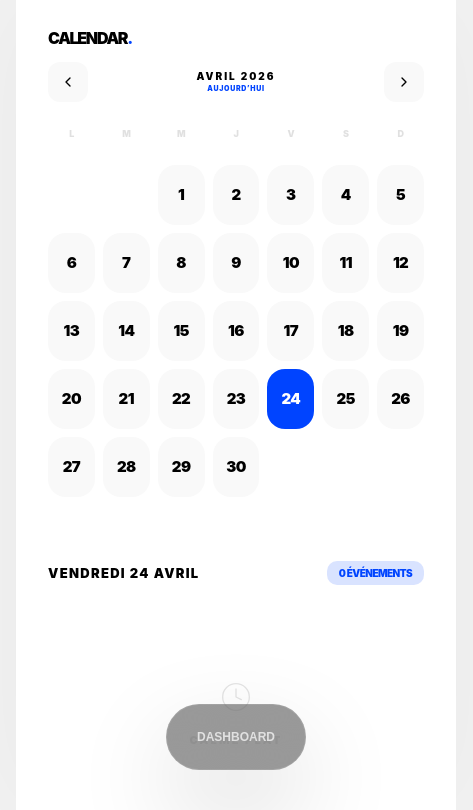
Test: DeliveryRadar › navigates between months correctly
Expected: the text "avril 2026" is shown, [196, 70, 276, 82]
Note: Click Next
Click the 2nd button.
click(404, 82)  # box [384, 62, 424, 102]
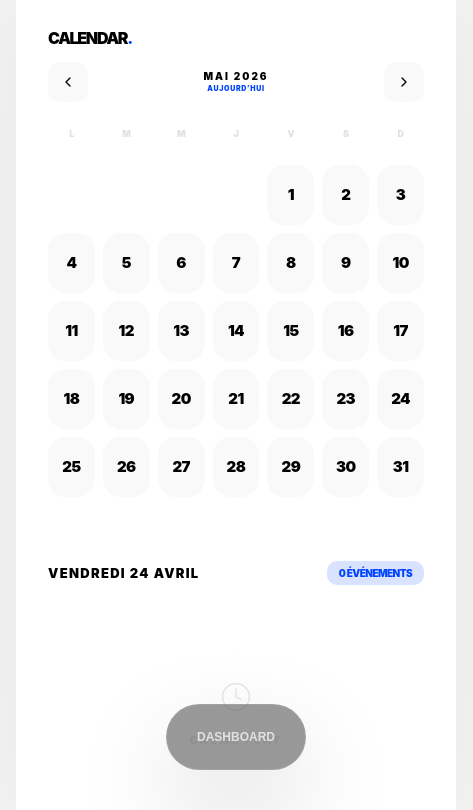
Expected: the text "mai 2026" is shown, [203, 70, 269, 82]
